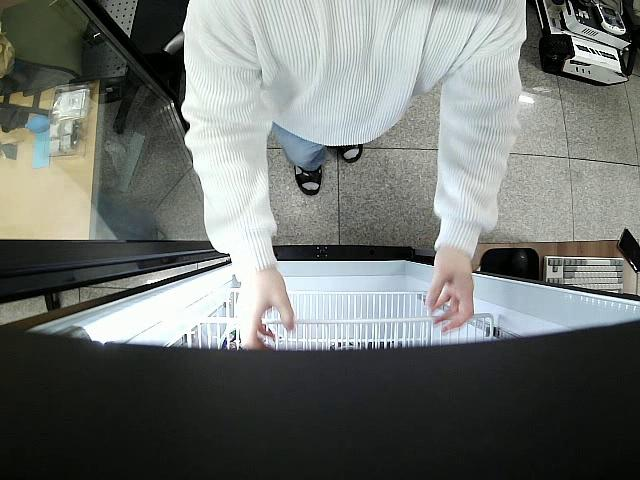00_hand: (233, 278, 298, 355), (424, 251, 476, 334)
